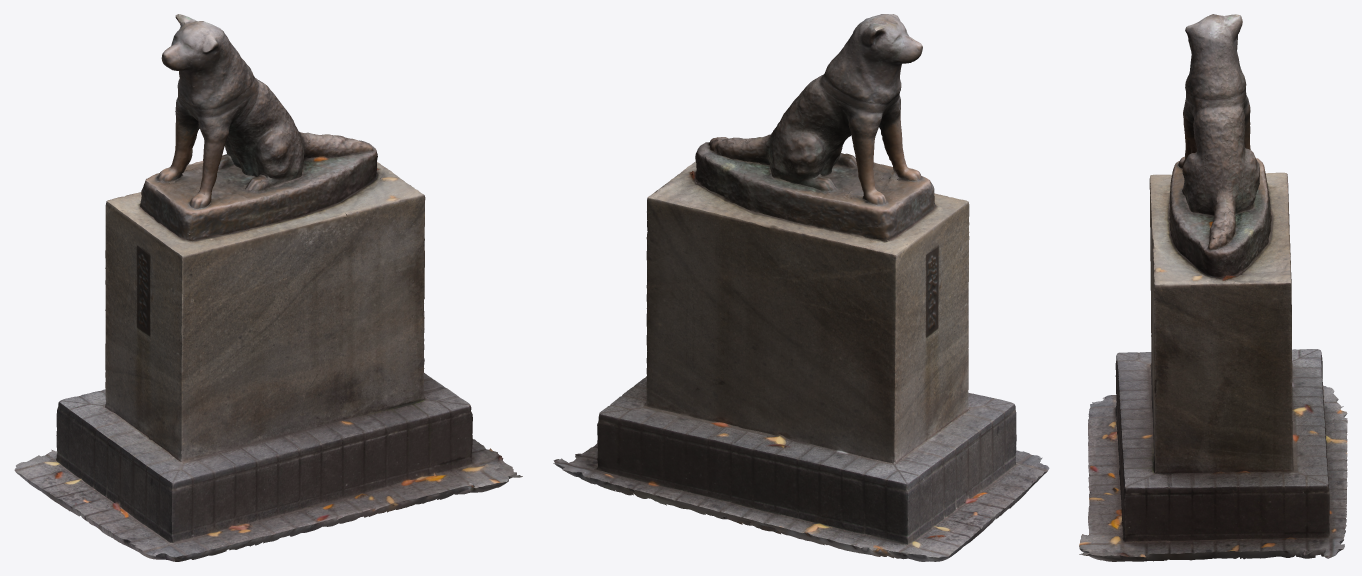
File: estatuaHachiko.glb
3 renders of one model, left to right at view 1: azimuth 30°, elevation 25°; view 2: azimuth 150°, elevation 25°; view 3: azimuth 270°, elevation 25°, orthographic. The views are drawn at different scales.
Parts seen in each view (by area): view 1: Object_2; view 2: Object_2; view 3: Object_2.
Part boxes in pixels (<box>): Object_2: <box>14,14,522,561</box>; Object_2: <box>553,14,1049,561</box>; Object_2: <box>1079,14,1347,561</box>.
Bounding box in the file's own units: 3.73 × 4.34 × 2.43.
Materials: 1 (1 with a texture image).
